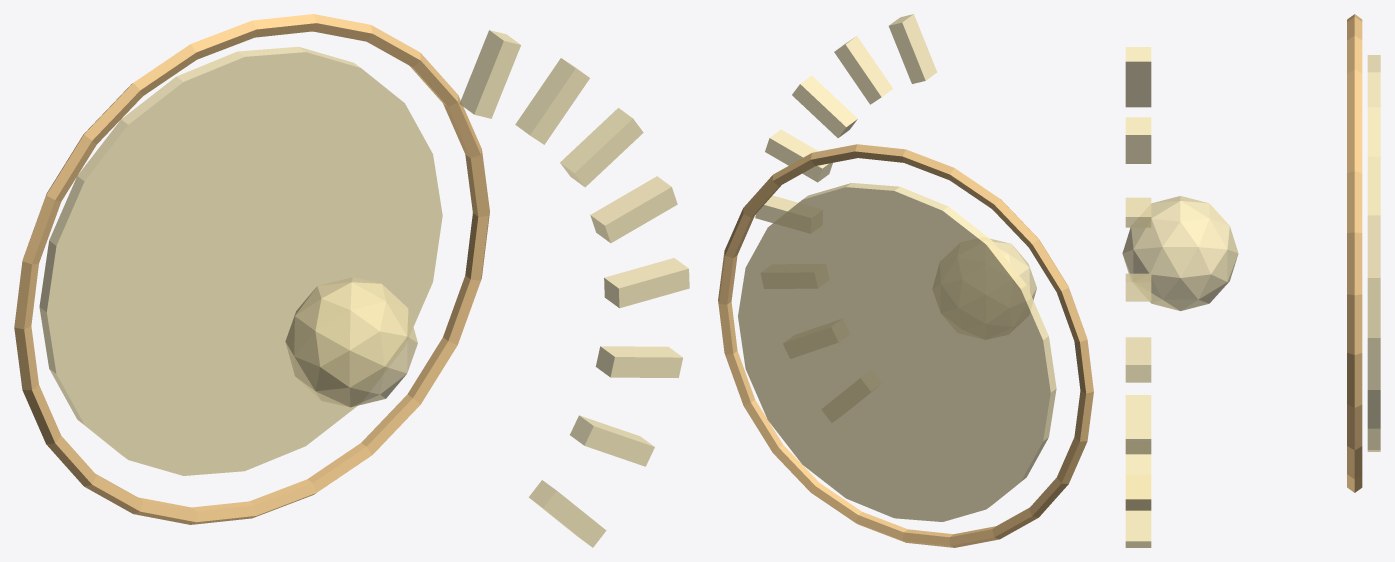
The model's file is 01_class_special_attack_vfx.glb.
3 renders of one model, left to right at view 1: azimuth 30°, elevation 25°; view 2: azimuth 150°, elevation 25°; view 3: azimuth 270°, elevation 25°, orthographic. The views are drawn at different scales.
Visible parts, largest first — view 1: ability_cast_disc, ability_outer_ring, class_energy_core, attack_flow_arc_seg_7, attack_flow_arc_seg_5, attack_flow_arc_seg_6, attack_flow_arc_seg_4, attack_flow_arc_seg_3, attack_flow_arc_seg_2, attack_flow_arc_seg_1, attack_flow_arc_seg_0; view 2: ability_cast_disc, ability_outer_ring, attack_flow_arc_seg_7, attack_flow_arc_seg_5, attack_flow_arc_seg_6, attack_flow_arc_seg_4, class_energy_core, attack_flow_arc_seg_3; view 3: class_energy_core, ability_outer_ring, ability_cast_disc, attack_flow_arc_seg_7, attack_flow_arc_seg_2, attack_flow_arc_seg_1, attack_flow_arc_seg_6, attack_flow_arc_seg_3, attack_flow_arc_seg_0, attack_flow_arc_seg_5, attack_flow_arc_seg_4.
Part boxes in pixels (<box>): ability_cast_disc: <box>39,46,442,475</box>; ability_outer_ring: <box>14,14,489,524</box>; class_energy_core: <box>285,277,417,407</box>; attack_flow_arc_seg_7: <box>459,30,520,118</box>; attack_flow_arc_seg_5: <box>560,108,643,187</box>; attack_flow_arc_seg_6: <box>515,58,589,144</box>; attack_flow_arc_seg_4: <box>590,176,677,242</box>; attack_flow_arc_seg_3: <box>604,258,689,308</box>; attack_flow_arc_seg_2: <box>595,346,682,377</box>; attack_flow_arc_seg_1: <box>570,415,654,466</box>; attack_flow_arc_seg_0: <box>528,480,606,547</box>; ability_cast_disc: <box>738,183,1056,521</box>; ability_outer_ring: <box>718,144,1093,547</box>; attack_flow_arc_seg_7: <box>888,14,937,83</box>; attack_flow_arc_seg_5: <box>792,75,857,137</box>; attack_flow_arc_seg_6: <box>834,36,893,104</box>; attack_flow_arc_seg_4: <box>765,129,832,182</box>; class_energy_core: <box>990,238,1036,300</box>; attack_flow_arc_seg_3: <box>755,195,798,222</box>; class_energy_core: <box>1122,196,1238,310</box>; ability_outer_ring: <box>1347,14,1362,492</box>; ability_cast_disc: <box>1367,55,1380,451</box>; attack_flow_arc_seg_7: <box>1125,47,1151,107</box>; attack_flow_arc_seg_2: <box>1125,395,1151,454</box>; attack_flow_arc_seg_1: <box>1125,454,1151,510</box>; attack_flow_arc_seg_6: <box>1125,117,1151,163</box>; attack_flow_arc_seg_3: <box>1125,337,1151,382</box>; attack_flow_arc_seg_0: <box>1125,510,1151,547</box>; attack_flow_arc_seg_5: <box>1125,197,1151,227</box>; attack_flow_arc_seg_4: <box>1125,273,1151,301</box>.
Size of the model in its own units: 1.71 by 1.63 by 0.8.
